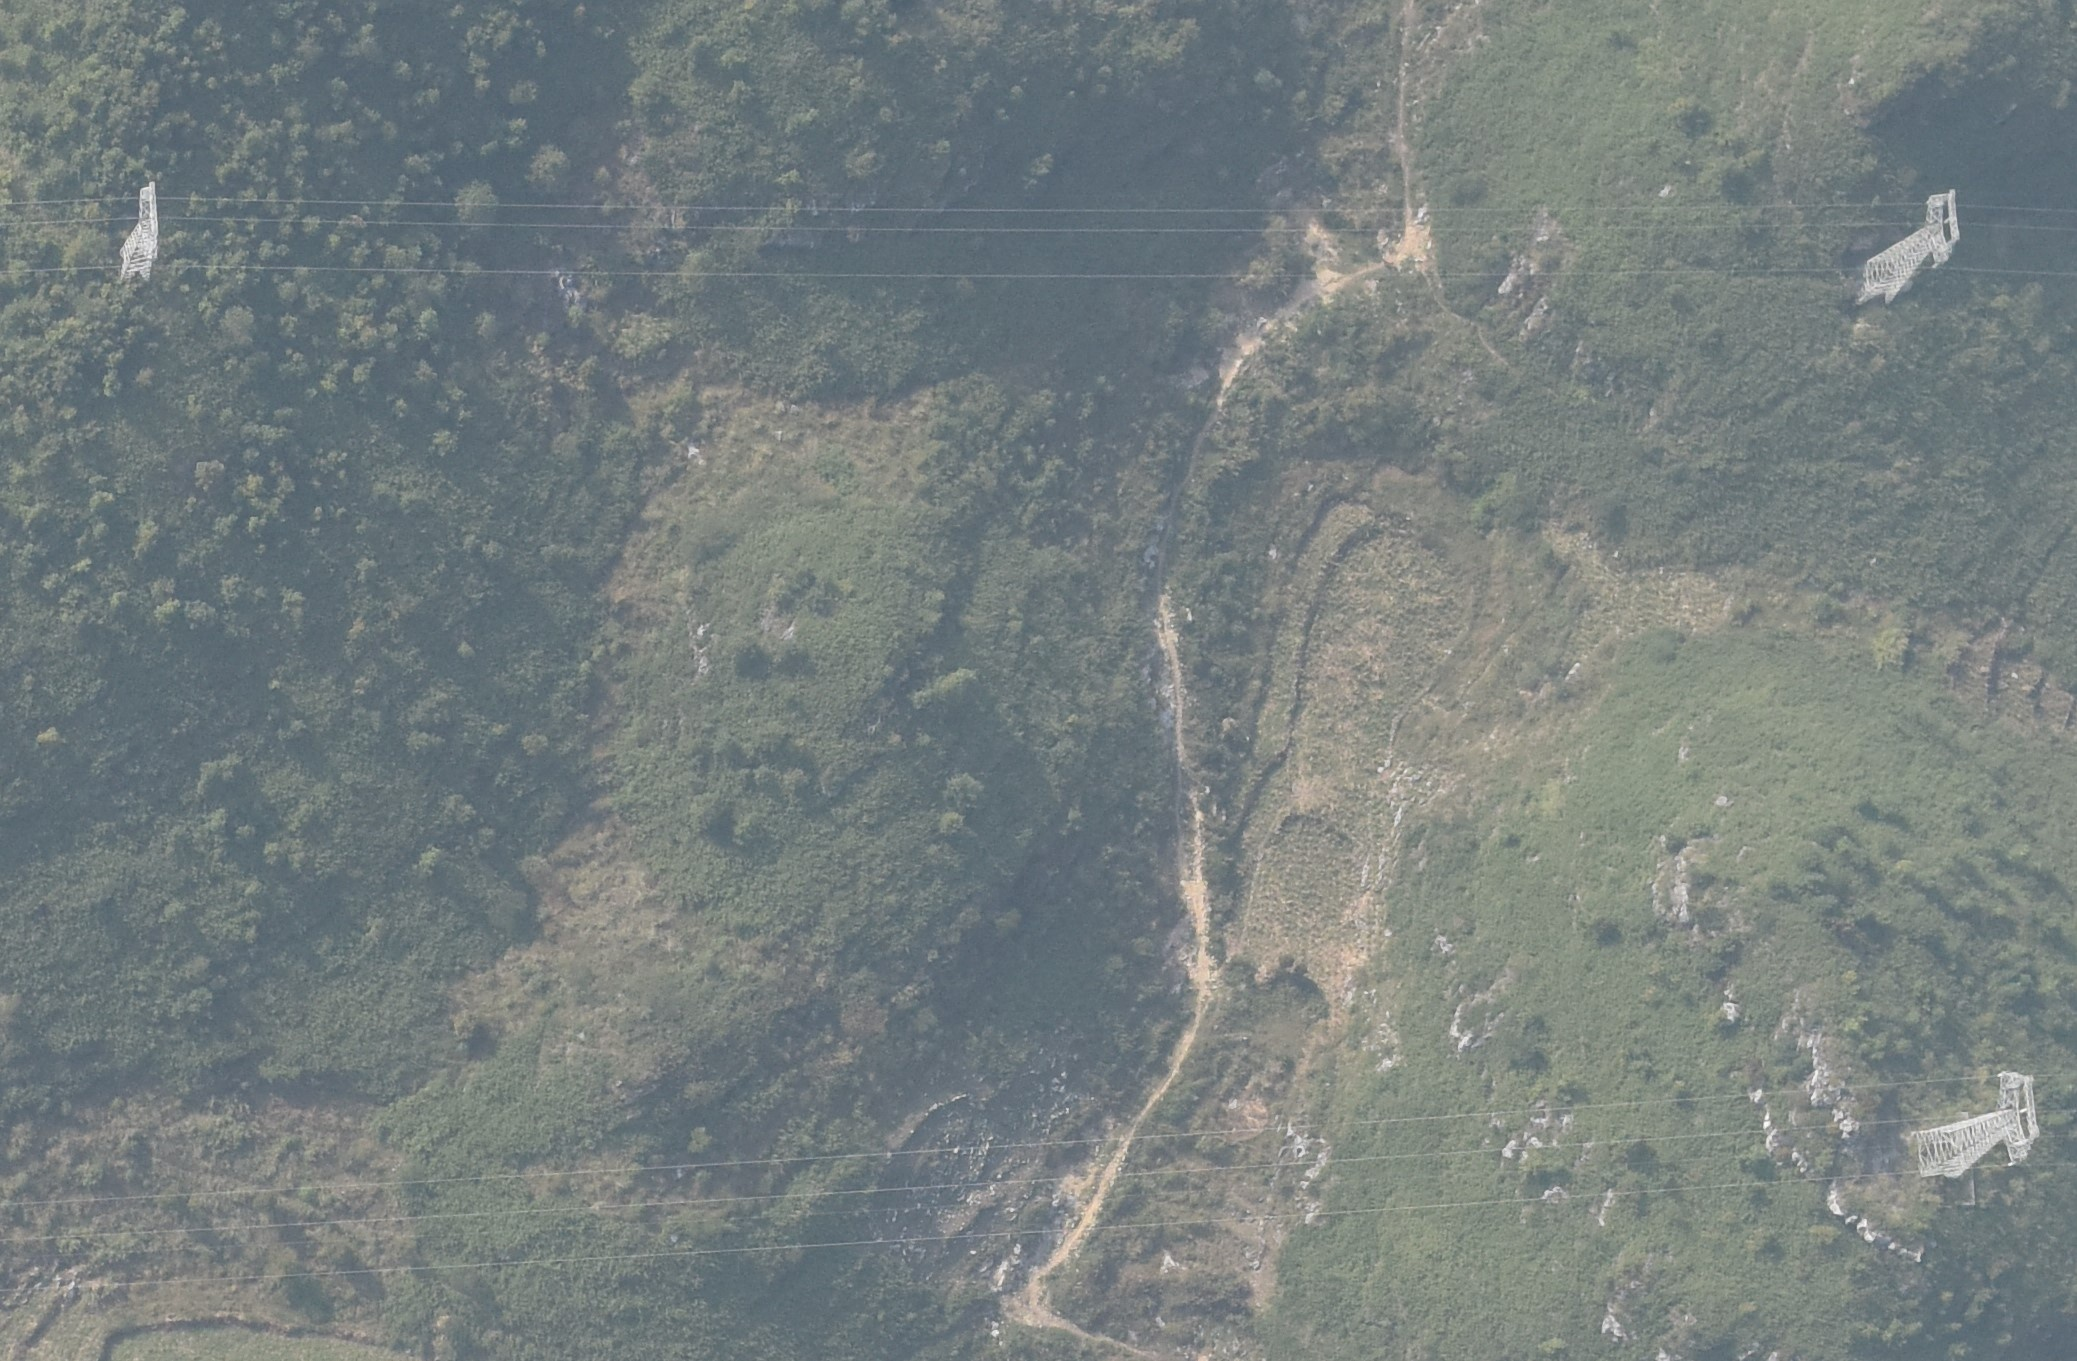cable-tower: (1915, 1071, 2041, 1180), (1855, 188, 1960, 304), (118, 181, 159, 283)
